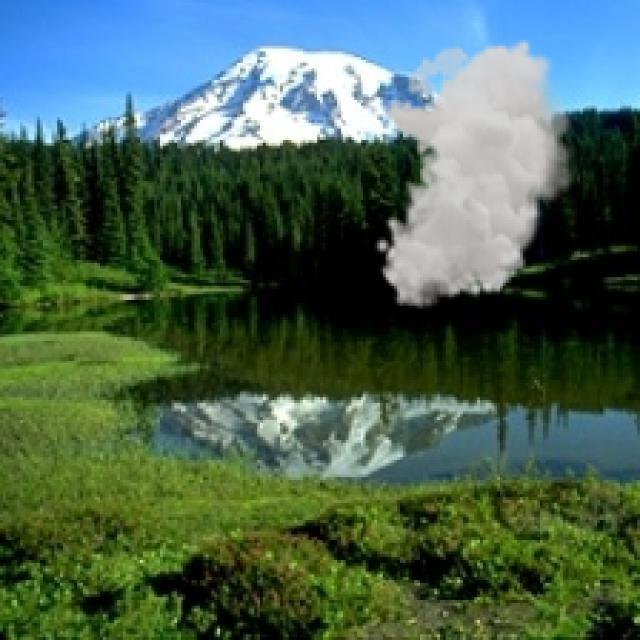Smoke: (374, 37, 580, 309)
